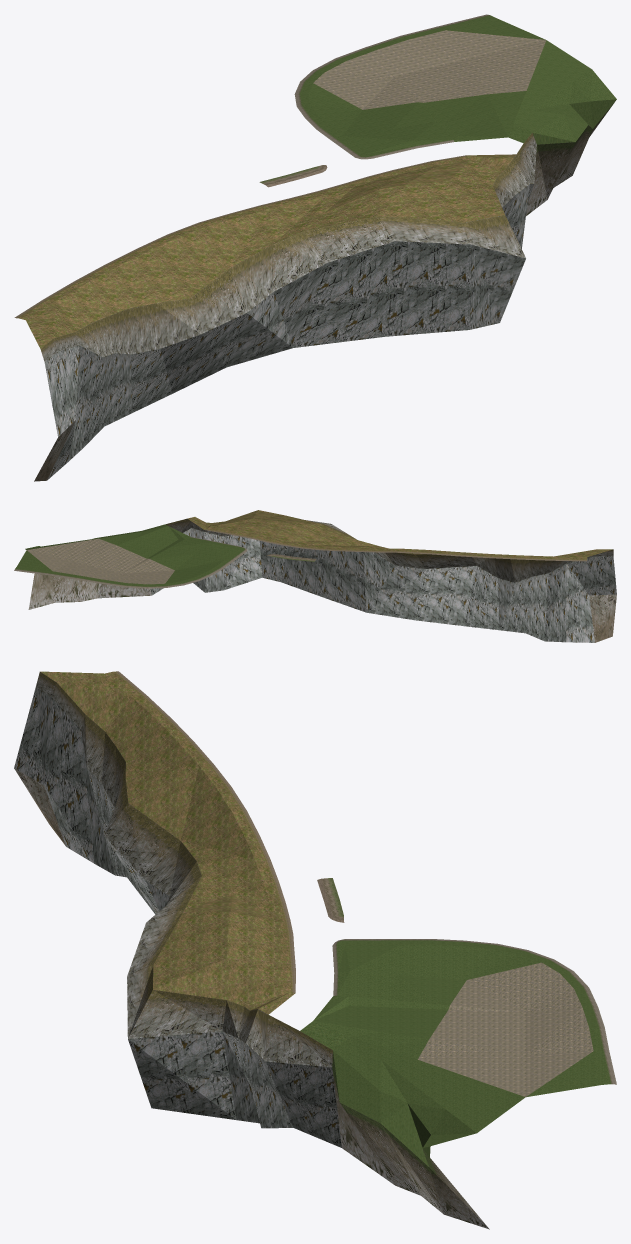
Rendered from cuntwland10bb.obj.
3 views of the same model, one above another, from view 1: azimuth 30°, elevation 25°; view 2: azimuth 150°, elevation 25°; view 3: azimuth 270°, elevation 25° (orthographic). The views are drawn at different scales.
Visible parts, largest first — view 1: cuntwland10bb; view 2: cuntwland10bb; view 3: cuntwland10bb.
Part boxes in pixels (x1,y1,x2,y2): cuntwland10bb: (14,14,616,481); cuntwland10bb: (14,510,616,642); cuntwland10bb: (14,671,616,1229).
Bounding box in the file's own units: 309 × 59.16 × 189.
11 materials, 11 textured.
